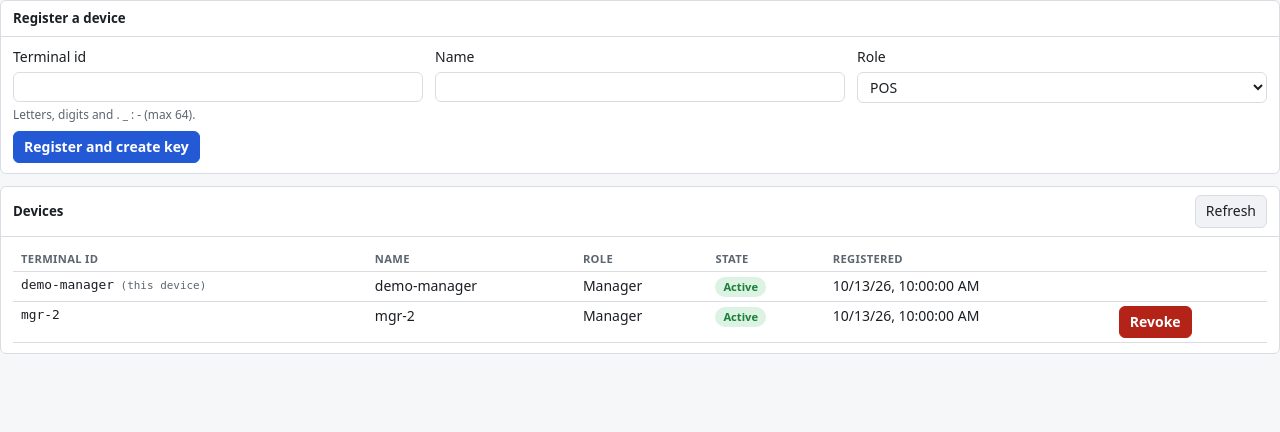
Test case: DevicesSection › explains LAST_MANAGER when revoking the last manager device
What coordinates should you click on to do the following:
click the button "Revoke"
I would click on:
 (1155, 322)
Its box is [1119, 306, 1192, 338].
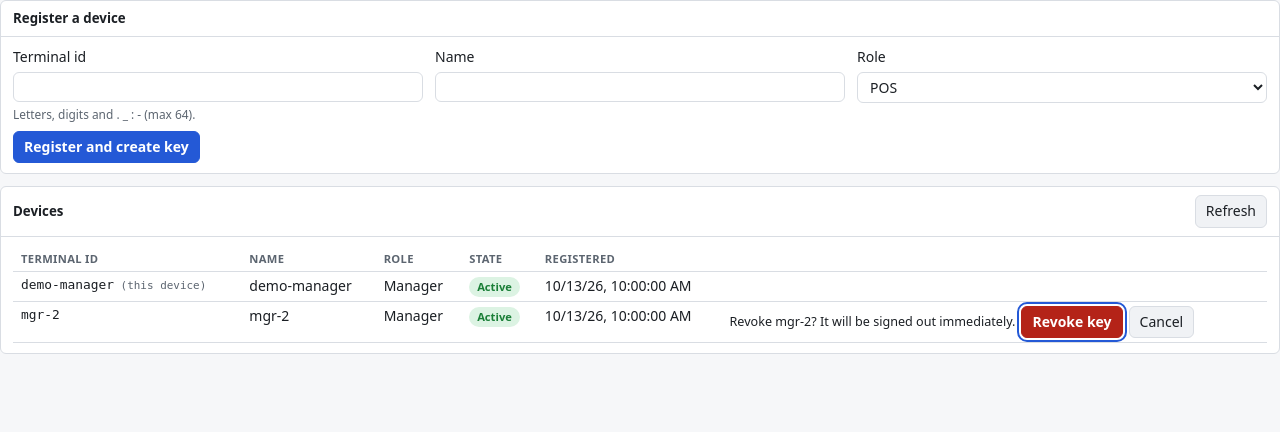
What coordinates should you click on to do the following:
click the button "Revoke key"
I would click on:
 (1072, 322)
Its box is [1022, 306, 1123, 338].
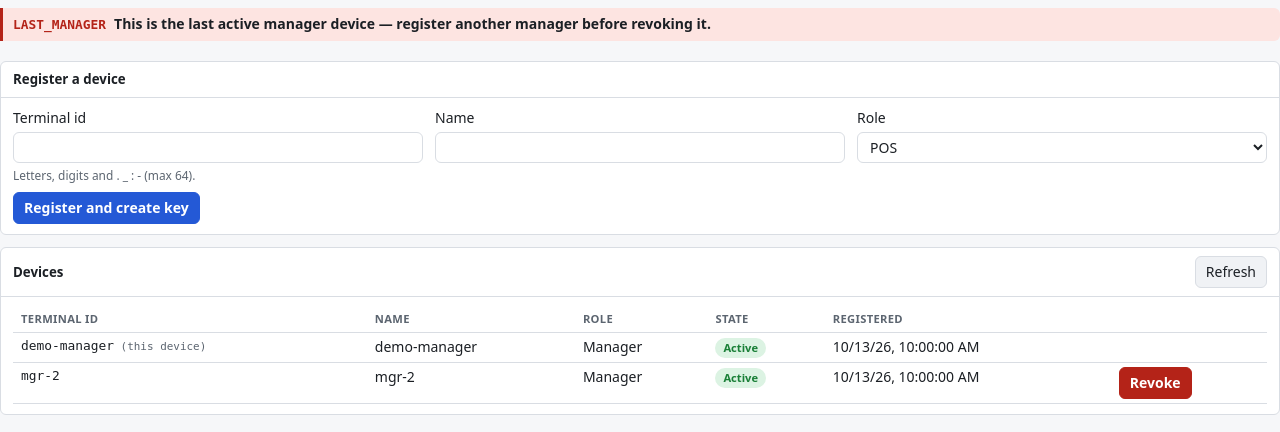
Expected: the text "last active manager device" is shown, [114, 14, 711, 33]
